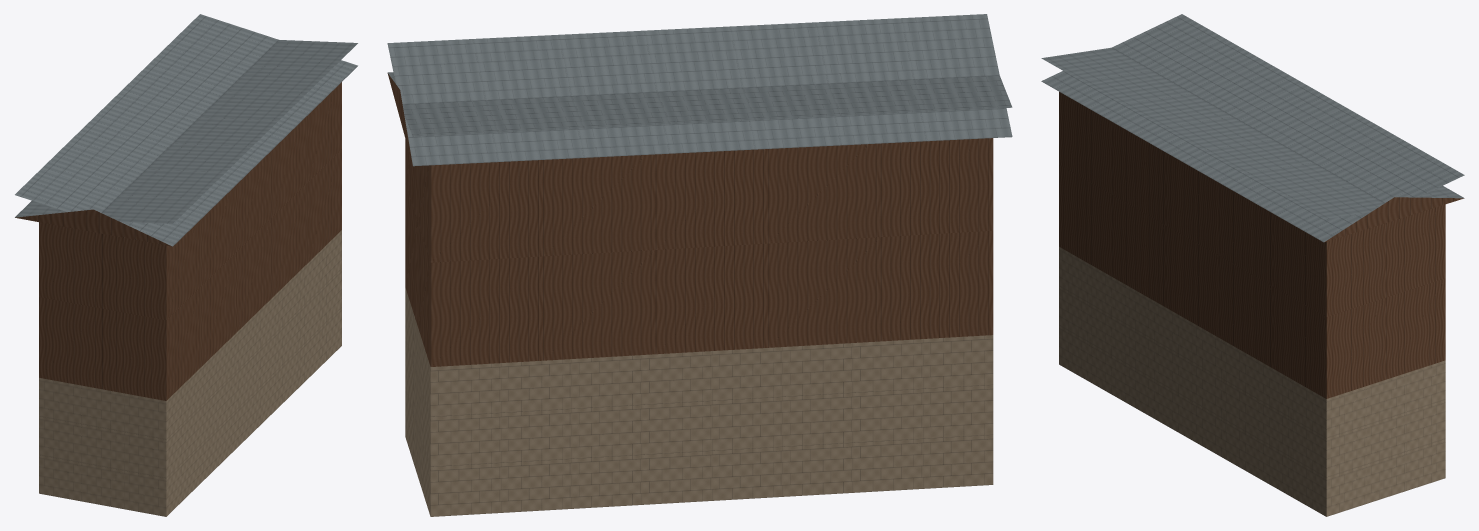
Rendered from bld_c29_-54_544.gltf.
3 renders of one model, left to right at view 1: azimuth 30°, elevation 25°; view 2: azimuth 150°, elevation 25°; view 3: azimuth 270°, elevation 25°, orthographic. The views are drawn at different scales.
Visible parts, largest first — view 1: bld_c29_-54_544; view 2: bld_c29_-54_544; view 3: bld_c29_-54_544.
Boxes of the visible parts, left/top/right/bottom form: bld_c29_-54_544: left=15, top=14, right=357, bottom=516; bld_c29_-54_544: left=387, top=14, right=1012, bottom=516; bld_c29_-54_544: left=1041, top=14, right=1464, bottom=516.
Size of the model in its own units: 19.06 by 13.2 by 16.62.
Materials: 4 (4 with a texture image).
